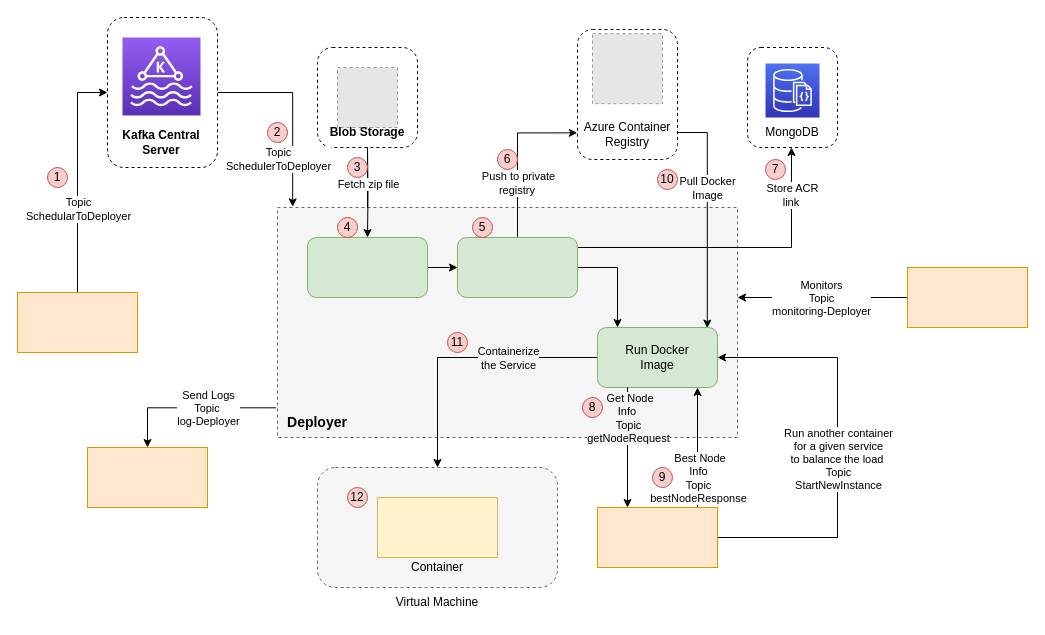
Image size: 1045x635. Some labels were removed from this diagram. Grey dashed boxes stand in for pictures. Each missing label, with the box of its shape:
Build Docker Image: (456, 236, 578, 298)
Generating Dockerfile: (306, 236, 428, 298)
Load Balancer: (596, 506, 718, 568)
Logger: (86, 446, 208, 508)
Monitoring and Fault Tolerance: (906, 266, 1028, 328)
Sample Application Running: (376, 496, 498, 558)
Scheduler: (16, 292, 138, 352)
